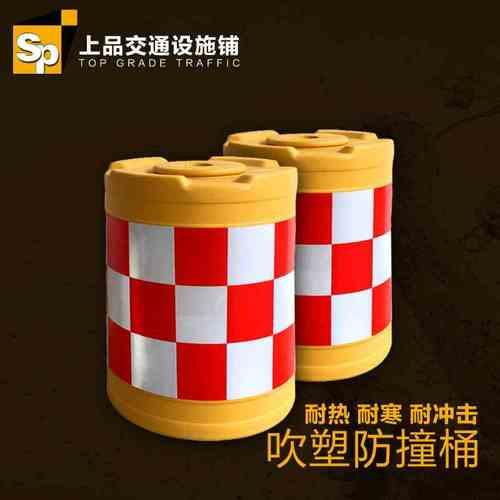sign: (101, 159, 299, 442), (234, 124, 396, 384)
